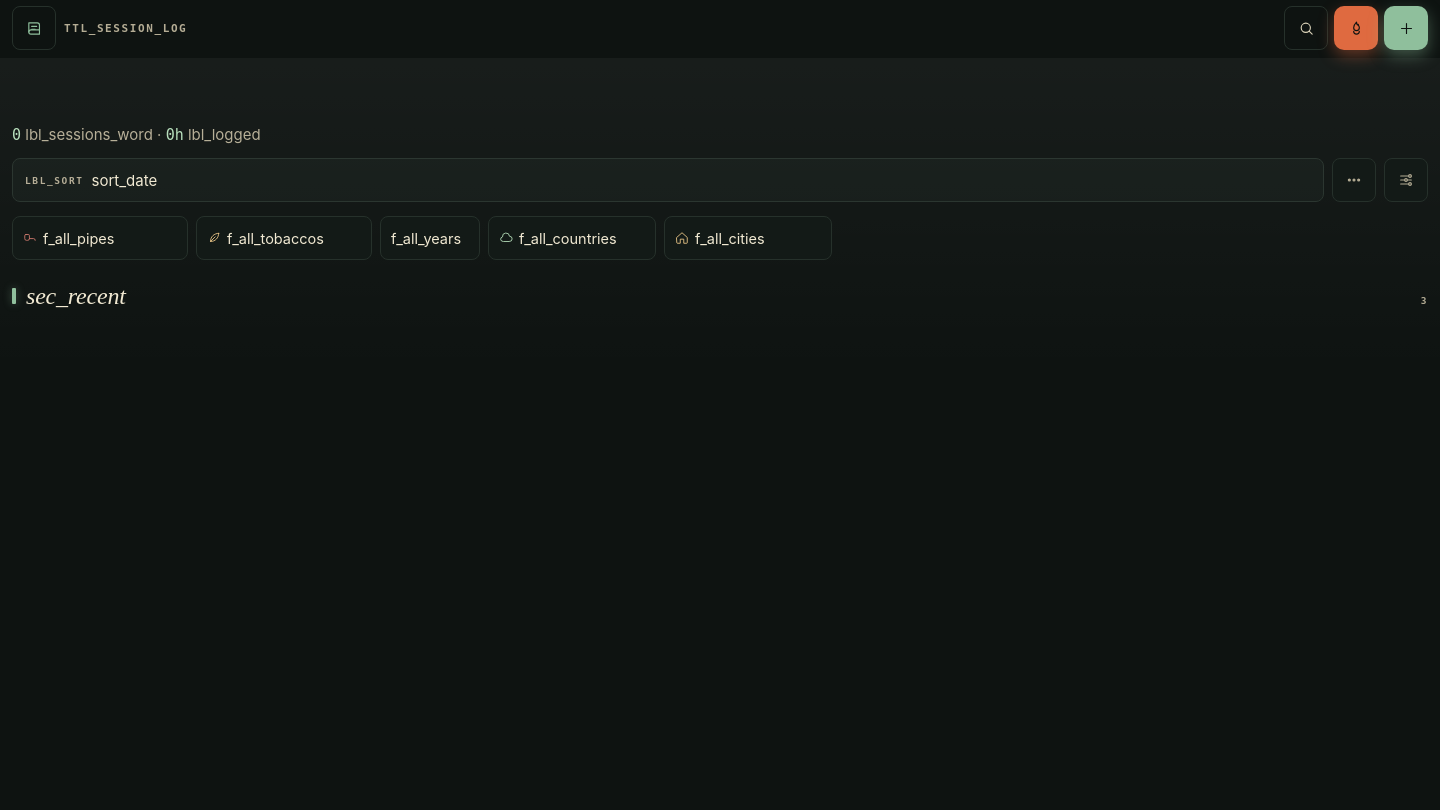
JournalView — country / locality filters › selecting a country narrows the list ISO-canonically (catches both spellings)
Select "France" in the dropdown named "aria_filter_by_country" at (582, 238), box [519,217,645,259]
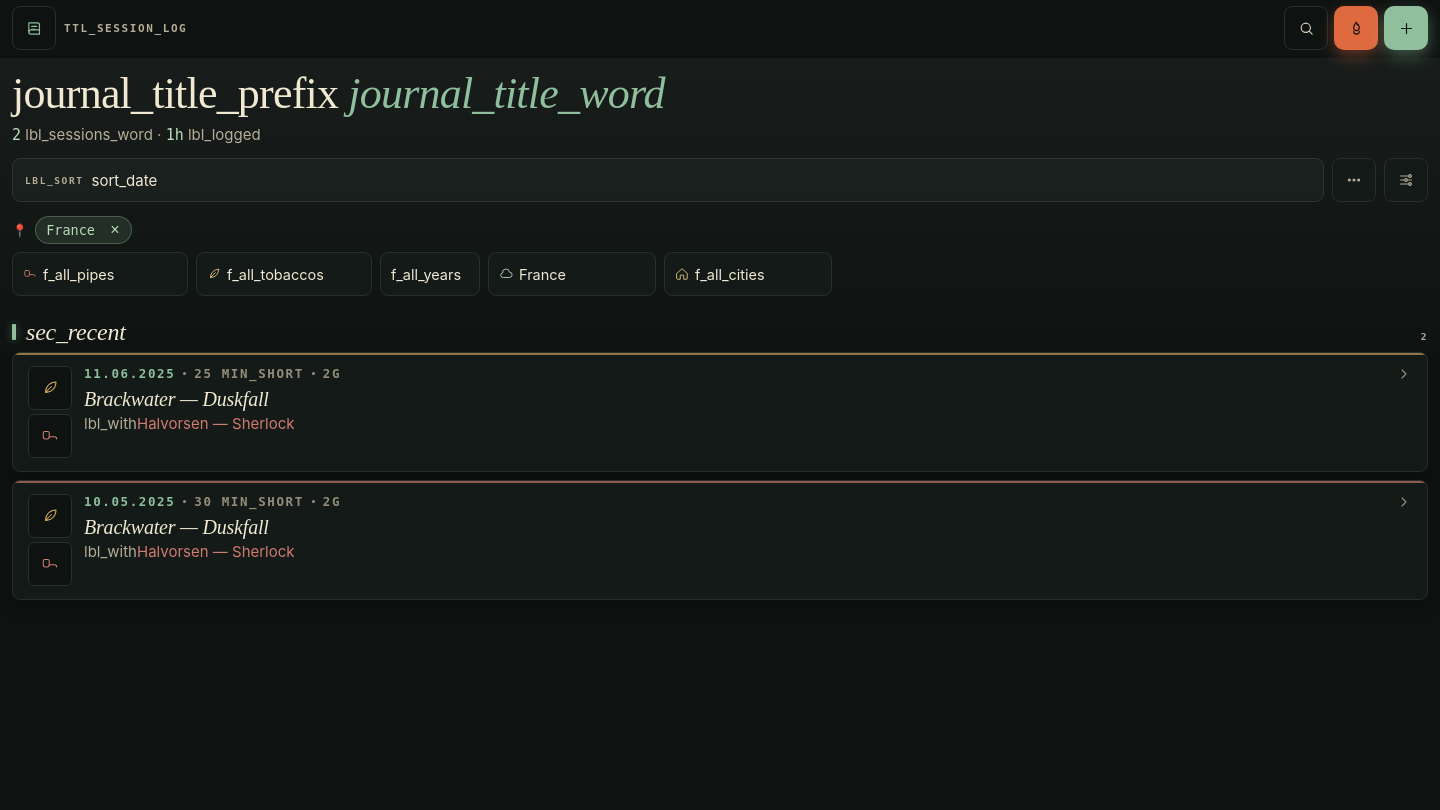
Result: the text "10.05.2025" is shown at [84,494,175,509]
Result: the text "11.06.2025" is shown at [84,366,175,381]
